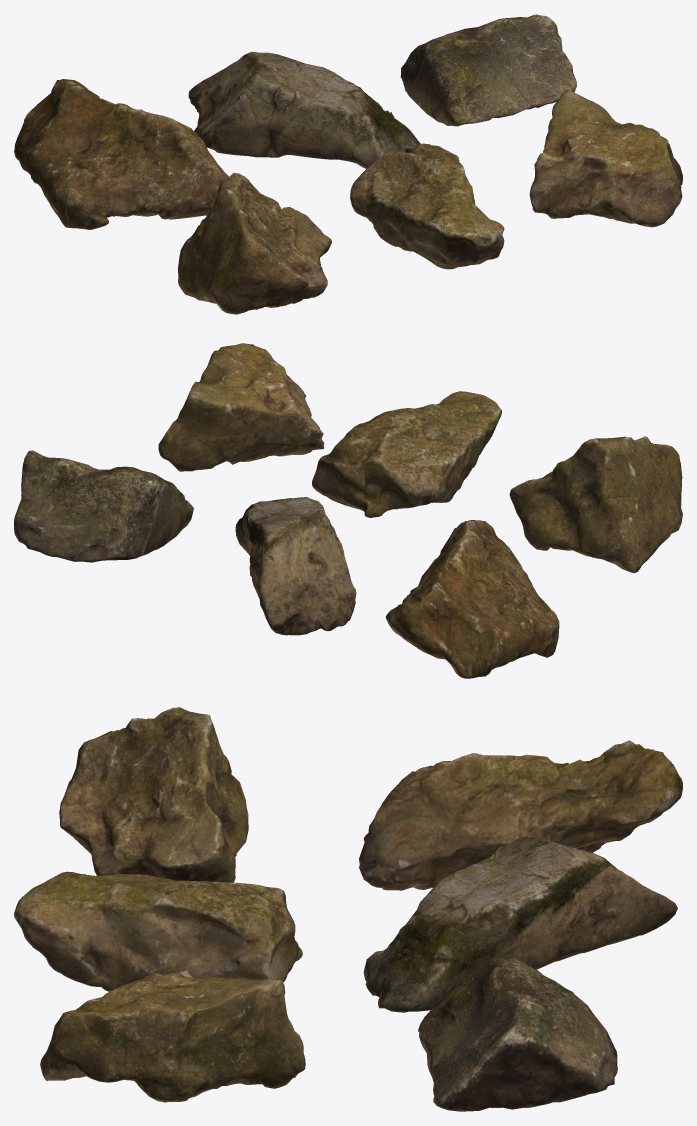
Rendered from rock_moss_set_01.glb.
3 renders of one model, top to bottom at view 1: azimuth 30°, elevation 25°; view 2: azimuth 150°, elevation 25°; view 3: azimuth 270°, elevation 25°, orthographic. The views are drawn at different scales.
Parts seen in each view (by area): view 1: rock_moss_set_01_rock01, rock_moss_set_01_rock02, rock_moss_set_01_rock06, rock_moss_set_01_rock04, rock_moss_set_01_rock03, rock_moss_set_01_rock05; view 2: rock_moss_set_01_rock04, rock_moss_set_01_rock01, rock_moss_set_01_rock05, rock_moss_set_01_rock03, rock_moss_set_01_rock06, rock_moss_set_01_rock02; view 3: rock_moss_set_01_rock01, rock_moss_set_01_rock02, rock_moss_set_01_rock05, rock_moss_set_01_rock04, rock_moss_set_01_rock06, rock_moss_set_01_rock03.
Boxes of the visible parts, x1,y1,x2,y2 form: rock_moss_set_01_rock01: [14, 79, 228, 229]; rock_moss_set_01_rock02: [188, 51, 420, 168]; rock_moss_set_01_rock06: [529, 89, 682, 227]; rock_moss_set_01_rock04: [177, 172, 331, 314]; rock_moss_set_01_rock03: [400, 14, 576, 126]; rock_moss_set_01_rock05: [350, 143, 504, 269]; rock_moss_set_01_rock04: [509, 436, 682, 573]; rock_moss_set_01_rock01: [385, 520, 559, 678]; rock_moss_set_01_rock05: [312, 391, 501, 517]; rock_moss_set_01_rock03: [14, 450, 193, 562]; rock_moss_set_01_rock06: [158, 343, 324, 471]; rock_moss_set_01_rock02: [235, 497, 356, 635]; rock_moss_set_01_rock01: [359, 740, 682, 890]; rock_moss_set_01_rock02: [363, 836, 677, 1012]; rock_moss_set_01_rock05: [14, 871, 302, 991]; rock_moss_set_01_rock04: [59, 707, 248, 882]; rock_moss_set_01_rock06: [40, 970, 305, 1102]; rock_moss_set_01_rock03: [418, 956, 617, 1111].
Size of the model in its own units: 8 by 1.77 by 6.94.
1 material, 1 textured.
